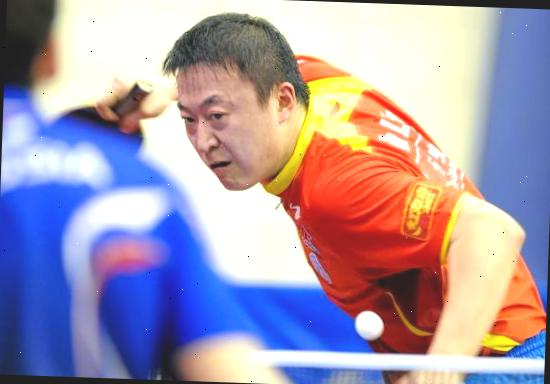ball: (350, 305, 384, 344)
